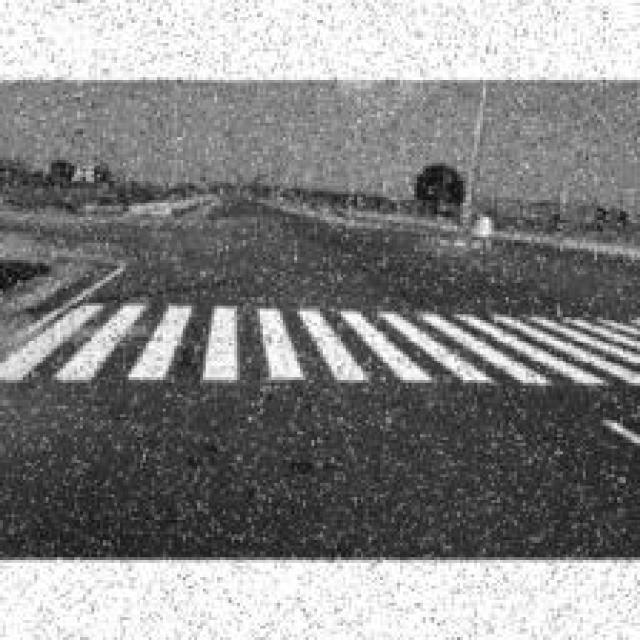crosswalk: (2, 297, 640, 389)
